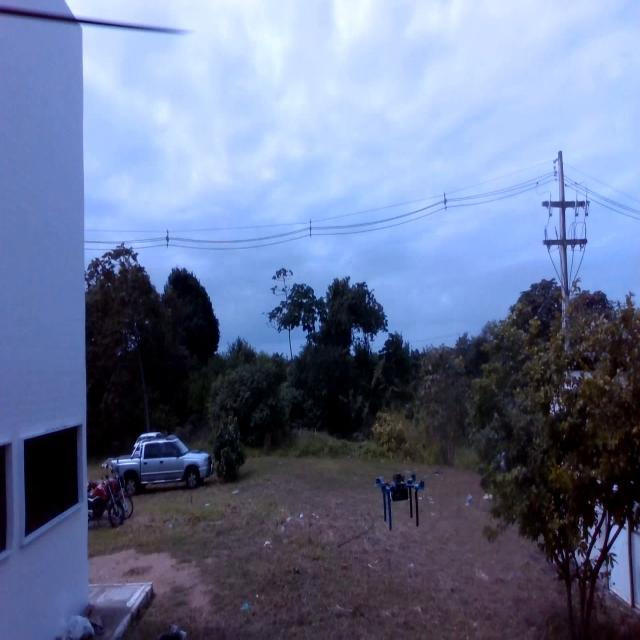-uav-: (367, 455, 436, 537)
